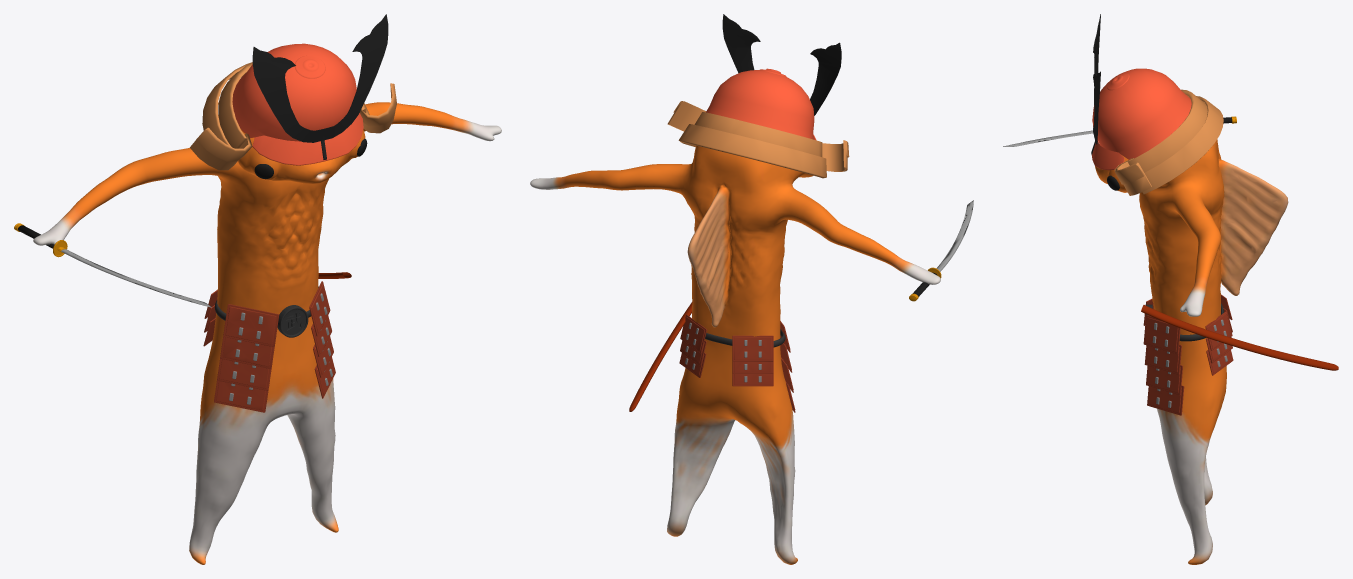
The model's file is Fish.glb.
The picture shows the model from 3 angles, left to right: view 1: azimuth 30°, elevation 25°; view 2: azimuth 150°, elevation 25°; view 3: azimuth 270°, elevation 25°; orthographic projection. The views are drawn at different scales.
Parts seen in each view (by area): view 1: Body, Helmet, Armor.Back.002, Sword, Belt; view 2: Body, Helmet, Armor.Back.002, Cap.002, Sword; view 3: Body, Helmet, Armor.Back.002, Cap.002.
Boxes of the visible parts, box(x1,y1,x2,y2) form: Body: box(33, 102, 501, 564); Helmet: box(190, 14, 396, 170); Armor.Back.002: box(203, 281, 335, 412); Sword: box(14, 223, 211, 307); Belt: box(214, 286, 318, 337); Body: box(530, 145, 940, 564); Helmet: box(667, 14, 849, 178); Armor.Back.002: box(679, 314, 795, 412); Cap.002: box(629, 302, 692, 411); Sword: box(909, 200, 973, 301); Body: box(1095, 139, 1288, 564); Helmet: box(1091, 14, 1223, 195); Armor.Back.002: box(1143, 294, 1233, 415); Cap.002: box(1141, 305, 1338, 370).
Bounding box in the file's own units: 4.59 × 5.23 × 3.23.
12 materials, 1 textured.
